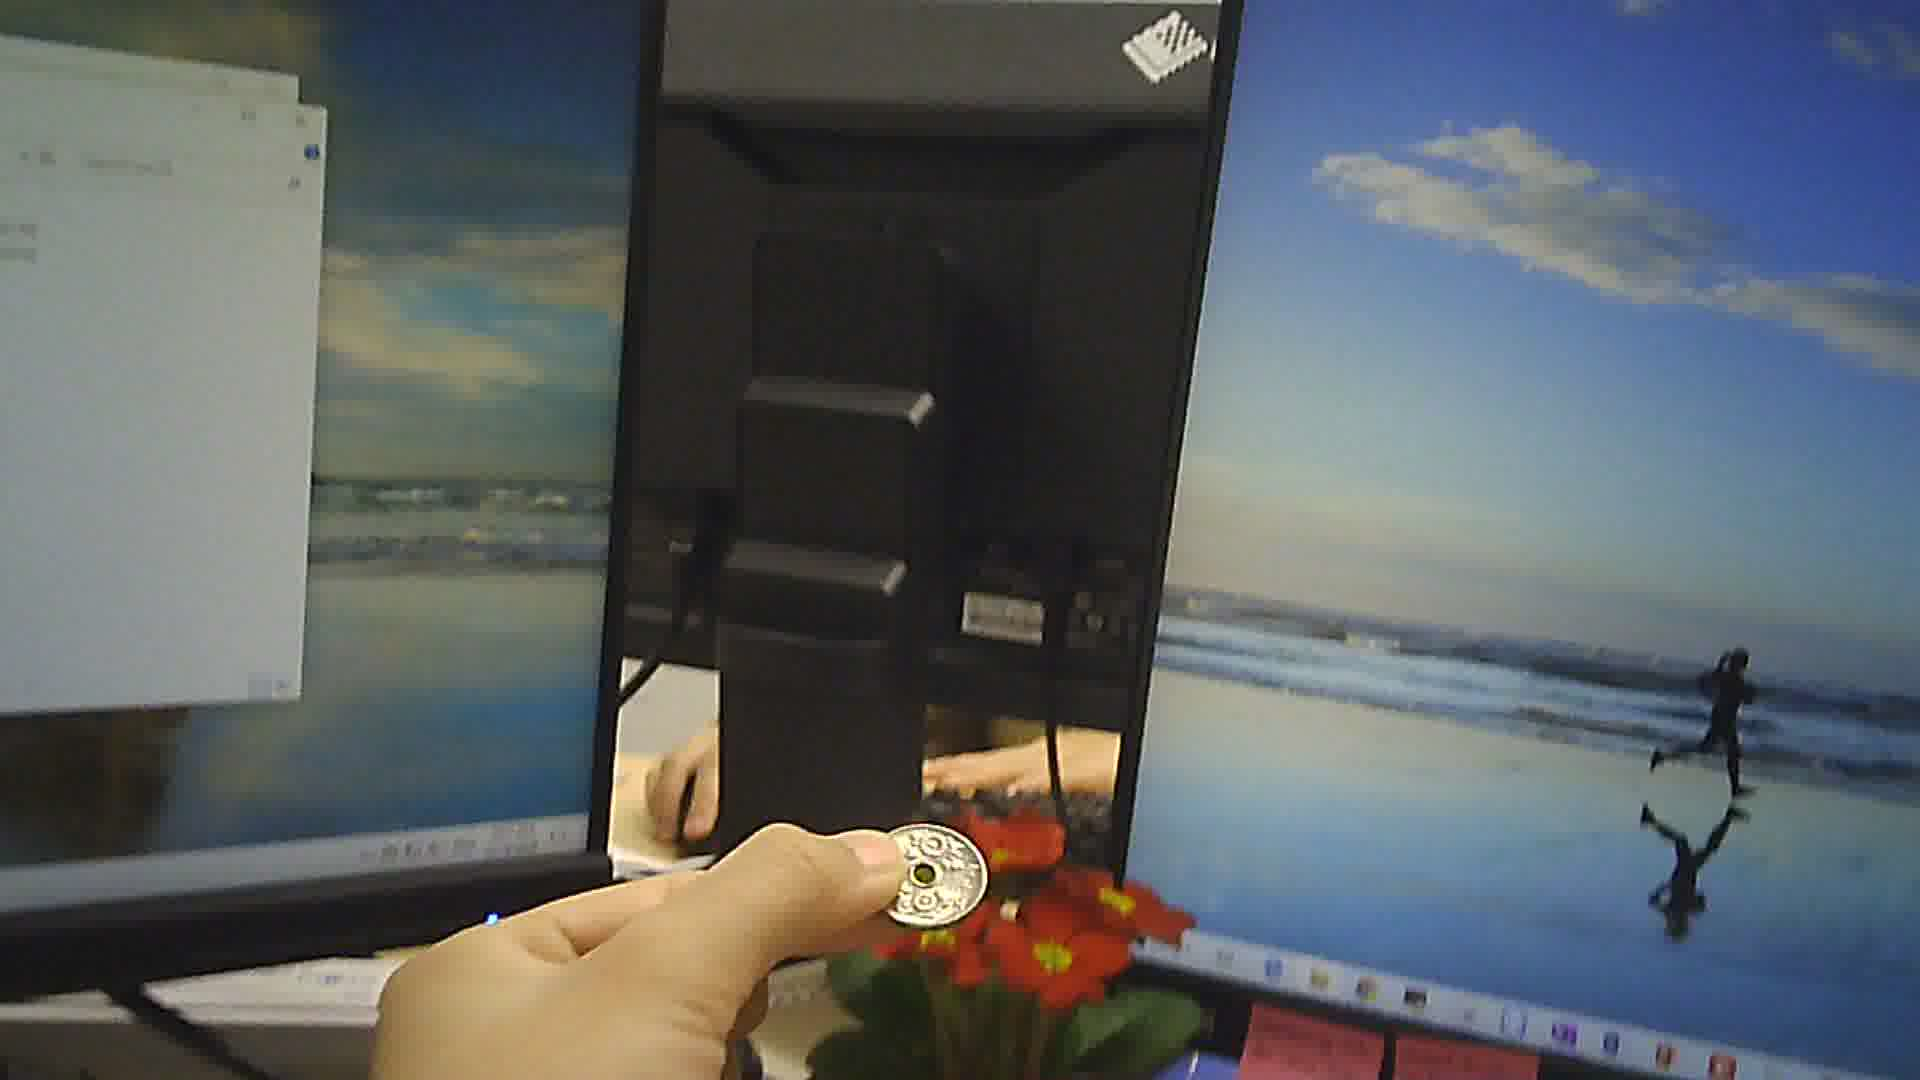50 Yen: (860, 812, 1000, 939)
